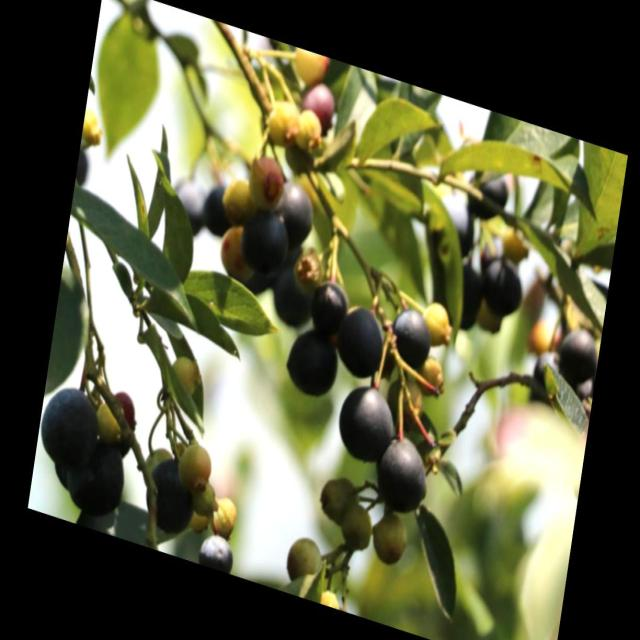blueberry: (33, 372, 109, 482), (62, 420, 136, 524), (367, 422, 439, 527), (329, 374, 402, 472), (278, 317, 346, 408), (138, 444, 200, 541), (330, 292, 393, 386), (265, 167, 321, 255), (235, 194, 294, 277), (477, 248, 533, 328), (383, 294, 439, 373), (266, 257, 318, 334), (162, 166, 210, 243), (550, 320, 600, 391), (306, 271, 352, 342), (197, 174, 240, 242), (192, 521, 241, 575)
blueberry-unripe: (242, 144, 284, 209), (384, 367, 428, 426), (284, 525, 324, 586), (370, 504, 410, 564), (318, 469, 358, 527), (177, 436, 214, 497), (265, 93, 302, 148), (339, 498, 377, 550), (419, 297, 453, 349), (413, 352, 447, 398), (292, 104, 323, 154), (210, 492, 238, 539)
